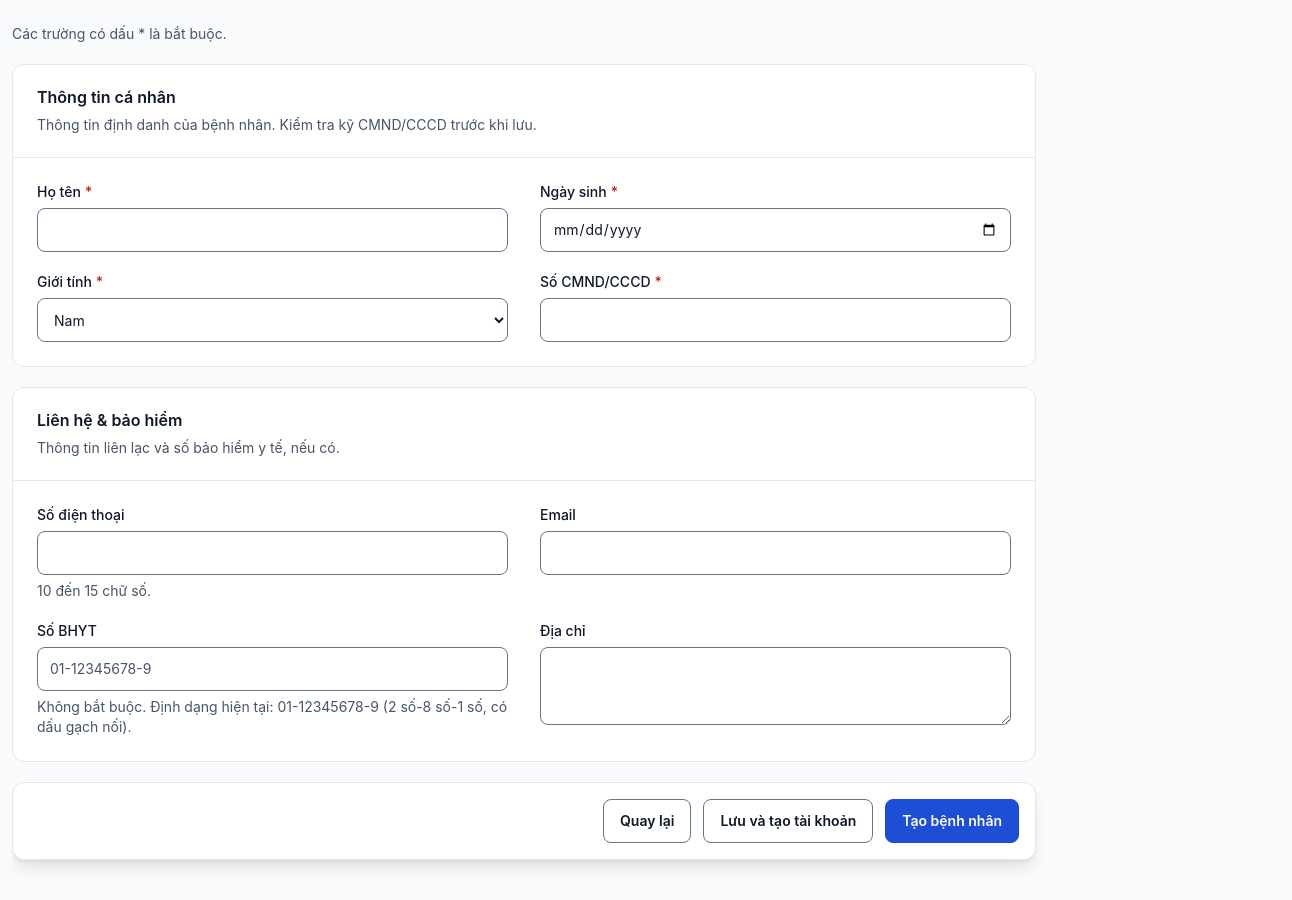
PatientForm › retains input and correlation after a duplicate identity on create
In the field labelled "Họ tên*": (272, 230) [37,208,508,252], type "  Nguyen Van A  "
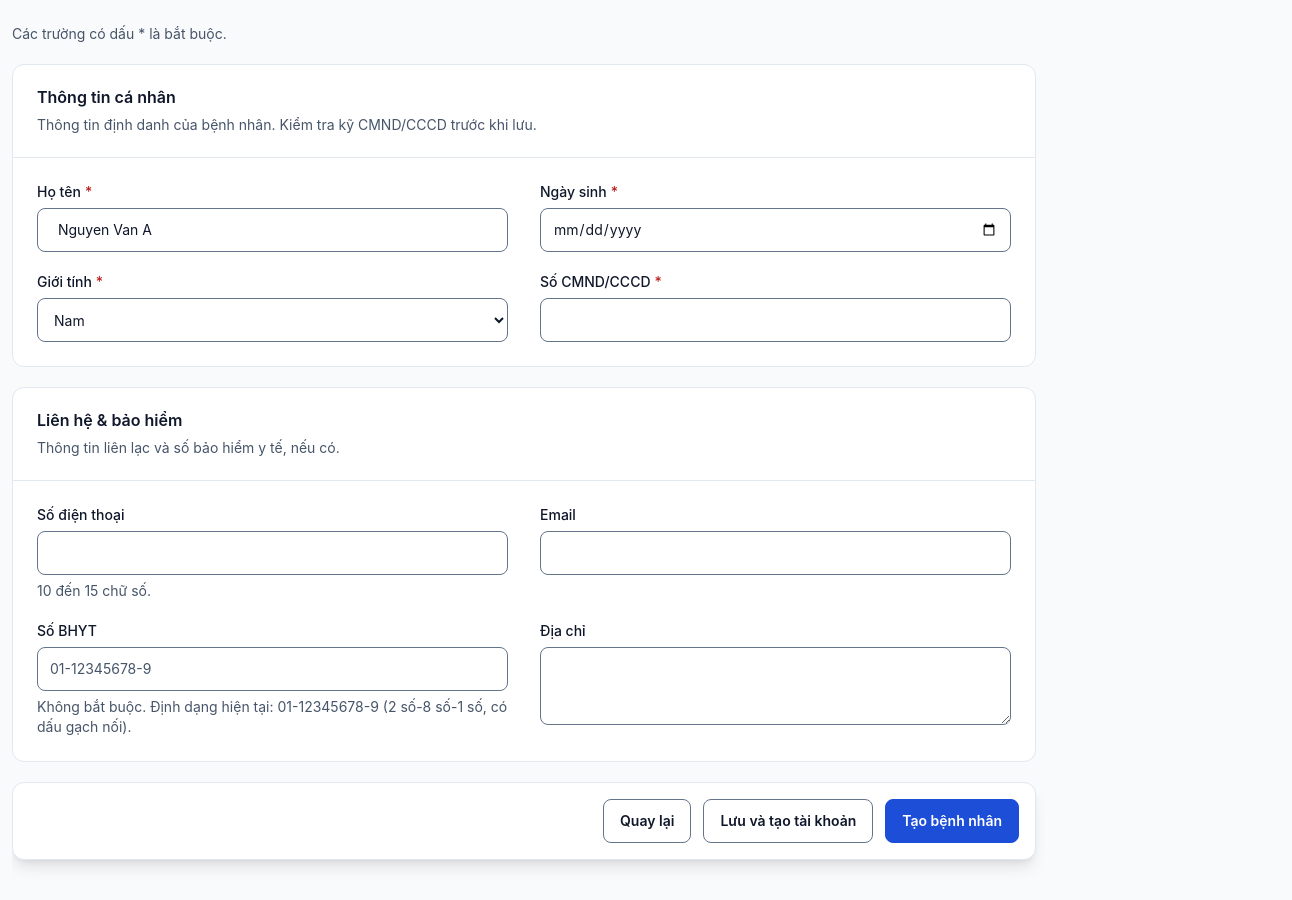
In the date field labelled "Ngày sinh*": (776, 230) [540,208,1011,252], type "1990-01-15"
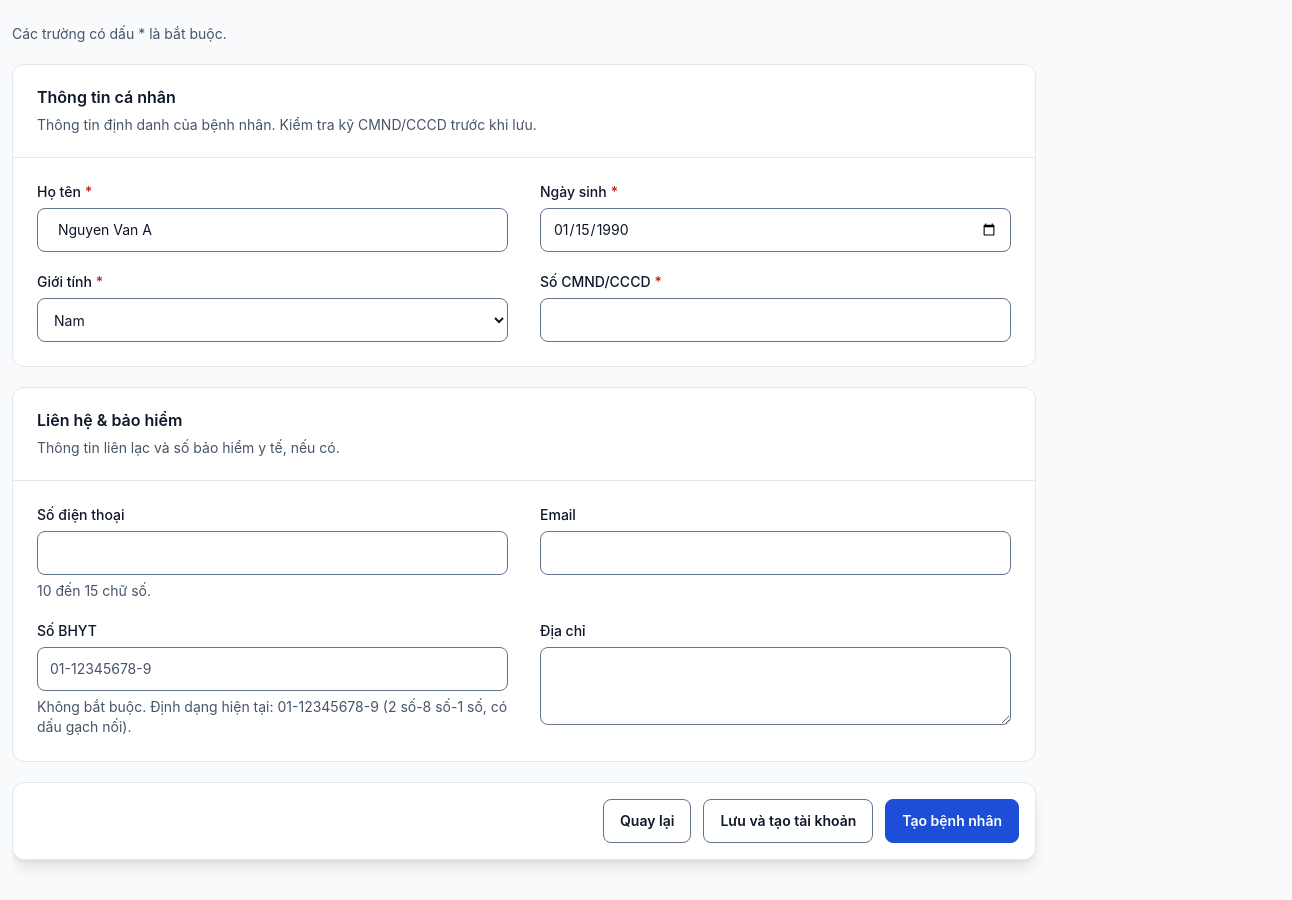
In the field labelled "Số CMND/CCCD*": (776, 320) [540,298,1011,342], type " 001234567890 "
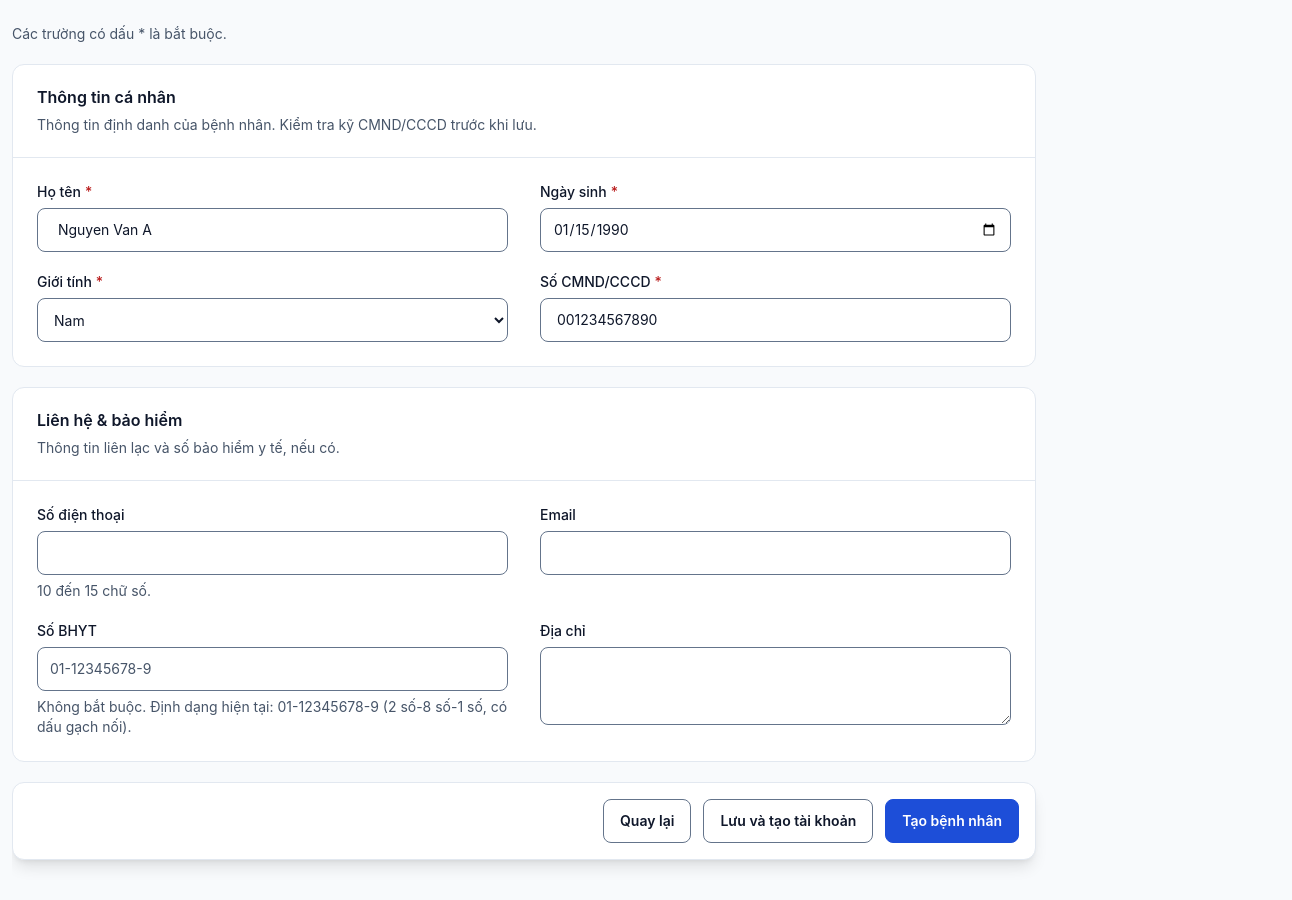
Submit the form named "Họ tên"
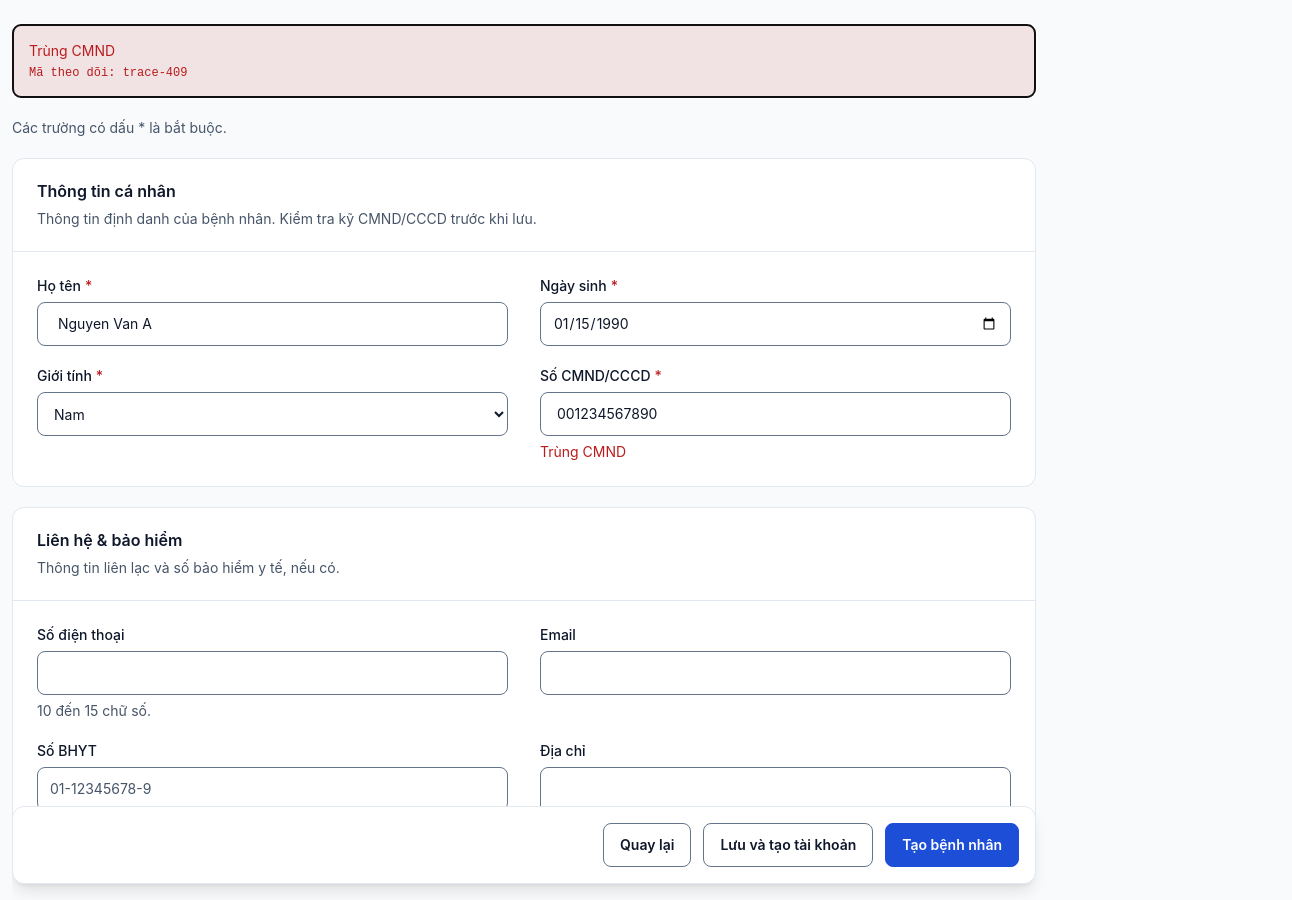
Expected: the message named "Không thể lưu bệnh nhân" shows "trace-409", [123,66,187,80]
